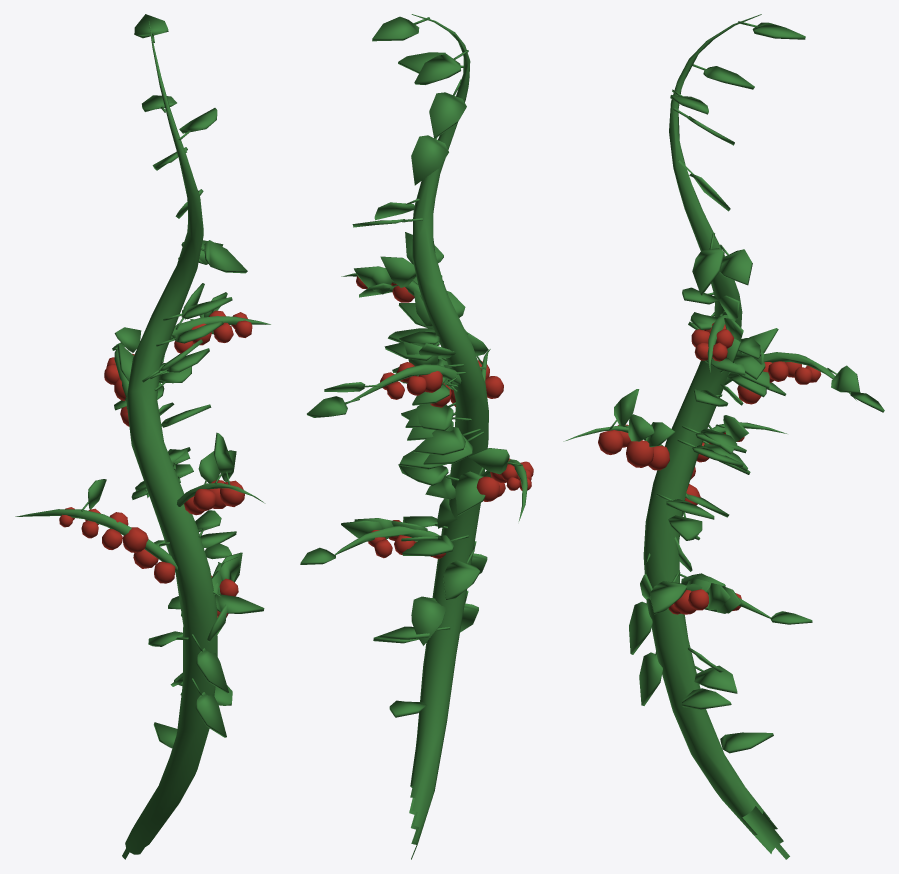
Rendered from tomato_ready.glb.
The picture shows the model from 3 angles, left to right: view 1: azimuth 30°, elevation 25°; view 2: azimuth 150°, elevation 25°; view 3: azimuth 270°, elevation 25°; orthographic projection. The views are drawn at different scales.
Parts seen in each view (by area): view 1: TomatoesReady.001; view 2: TomatoesReady.001; view 3: TomatoesReady.001.
Part boxes in pixels (x1=…): TomatoesReady.001: x1=15, y1=14, x2=270, y2=859; TomatoesReady.001: x1=300, y1=14, x2=533, y2=859; TomatoesReady.001: x1=563, y1=14, x2=884, y2=859.
Size of the model in its own units: 0.7669 by 2.83 by 0.9724.
